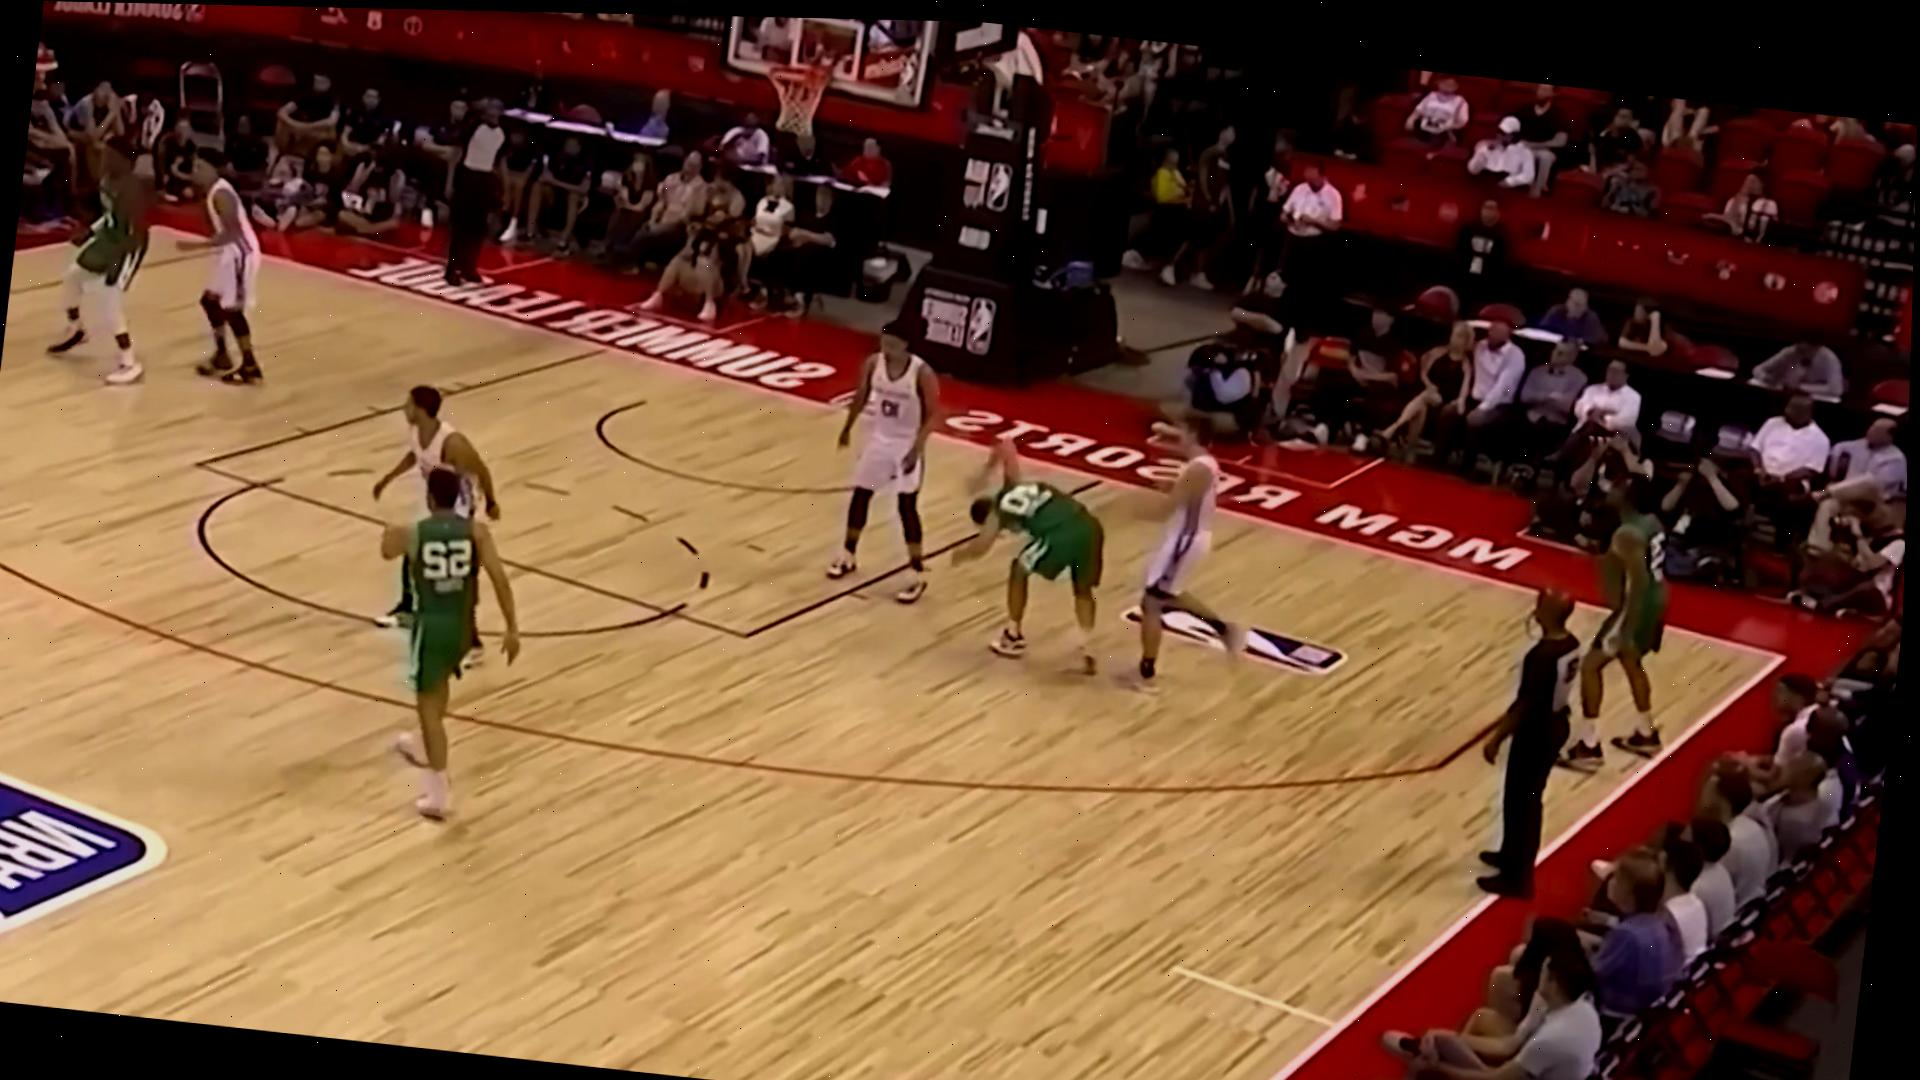foul: (938, 368, 1263, 675)
